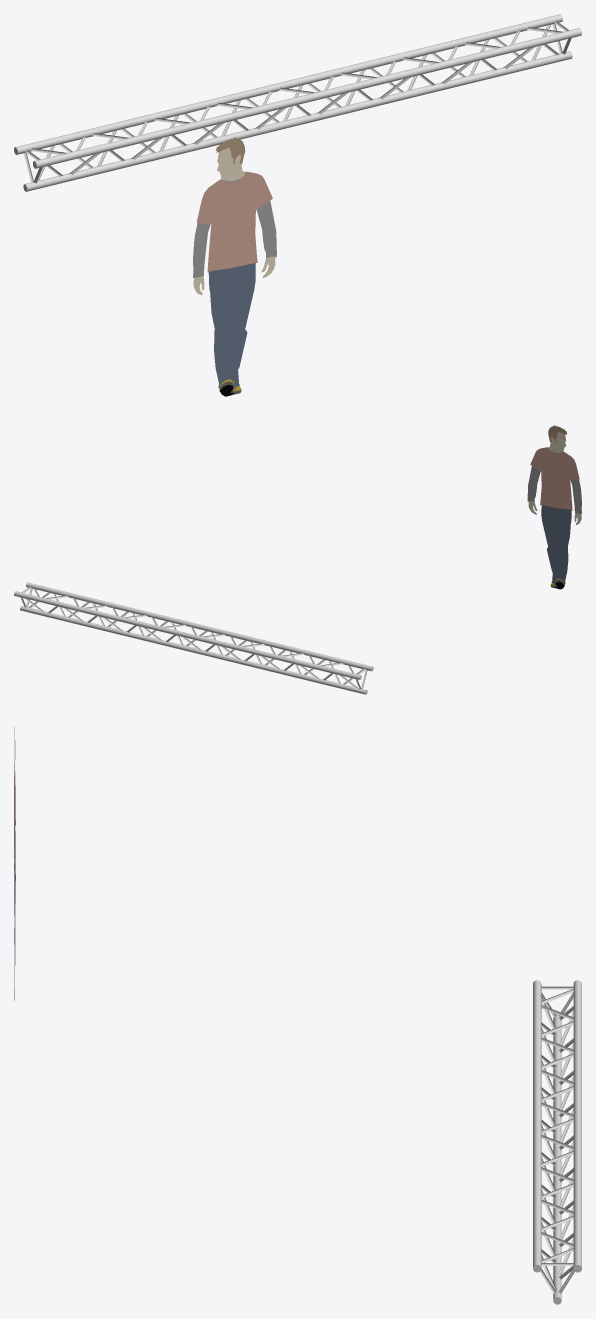
The model's file is Prolyte_F_H30D_4m-5c5f6c11.glb.
The picture shows the model from 3 angles, top to bottom: view 1: azimuth 30°, elevation 25°; view 2: azimuth 150°, elevation 25°; view 3: azimuth 270°, elevation 25°; orthographic projection. The views are drawn at different scales.
Parts seen in each view (by area): view 1: Geom3D_trilite 3m, Geom3D (×4); view 2: Geom3D_trilite 3m, Geom3D (×4); view 3: Geom3D_trilite 3m.
Boxes of the visible parts, x1,y1,x2,y2 form: Geom3D_trilite 3m: [14, 14, 581, 191]; Geom3D (×4): [193, 147, 276, 390]; Geom3D_trilite 3m: [14, 582, 373, 694]; Geom3D (×4): [527, 432, 581, 585]; Geom3D_trilite 3m: [533, 980, 581, 1304].
Size of the model in its own units: 4.63 by 1.81 by 3.37.
